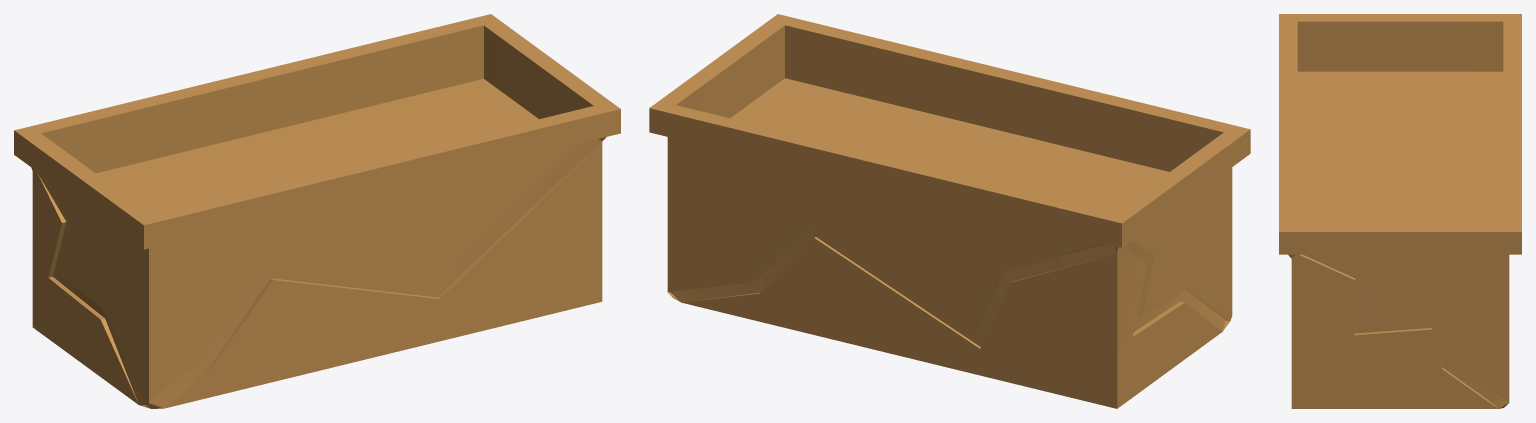
File: Maseta Grande rota.fbx
3 renders of one model, left to right at view 1: azimuth 30°, elevation 25°; view 2: azimuth 150°, elevation 25°; view 3: azimuth 270°, elevation 25°, orthographic. The views are drawn at different scales.
Parts seen in each view (by area): view 1: pCube122; view 2: pCube122; view 3: pCube122.
Boxes of the visible parts, x1=… form: pCube122: x1=14, y1=14, x2=620, y2=408; pCube122: x1=649, y1=14, x2=1250, y2=408; pCube122: x1=1279, y1=14, x2=1521, y2=408.
Bounding box in the file's own units: 7.88 × 3.08 × 3.71.
